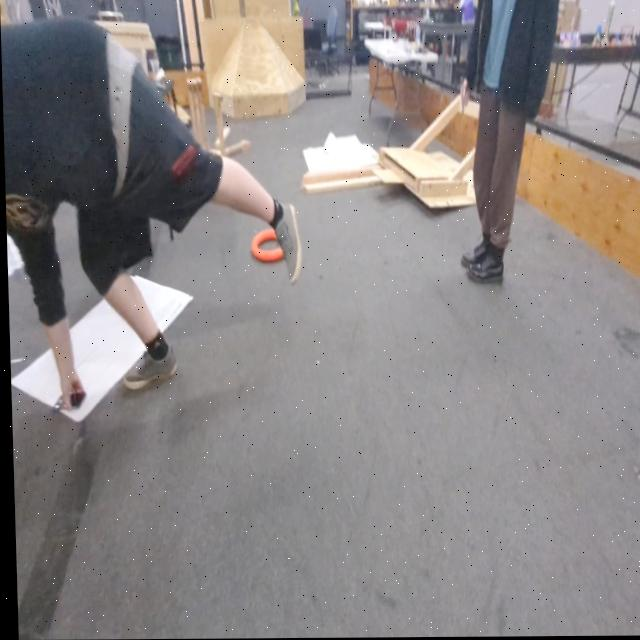note: (250, 227, 283, 265)
